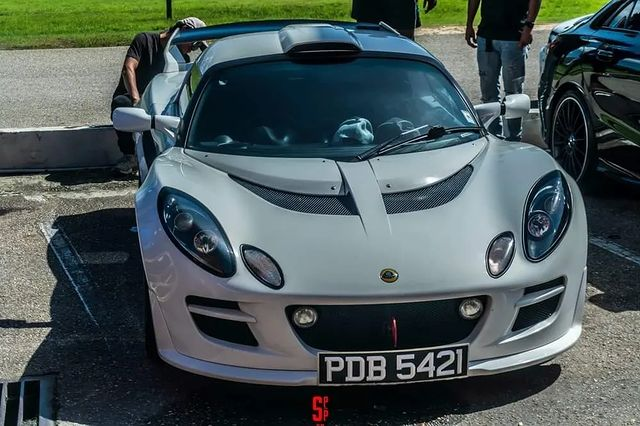License-Plate: (322, 355, 464, 384)
